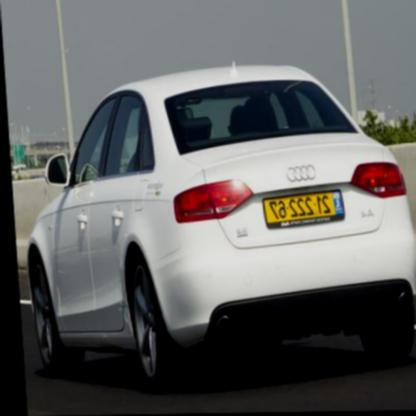License_Plate: (261, 189, 345, 228)
